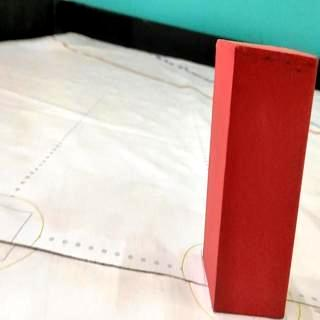redbox: (214, 43, 298, 320)
